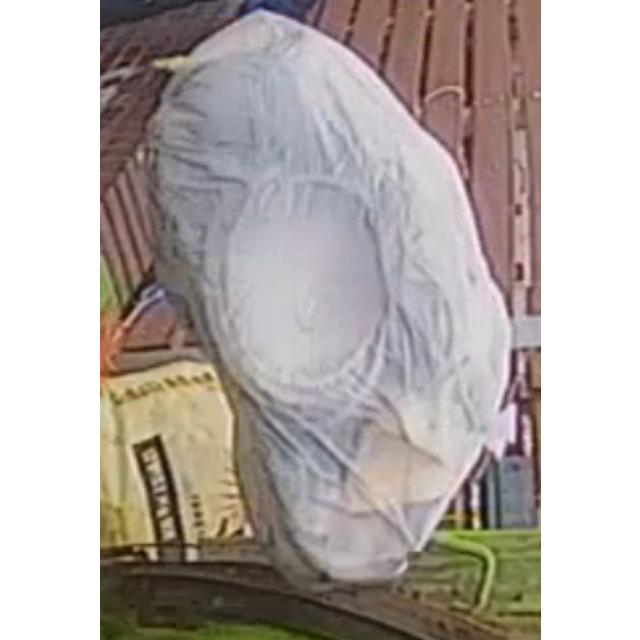other_trashbag: (158, 11, 508, 581)
